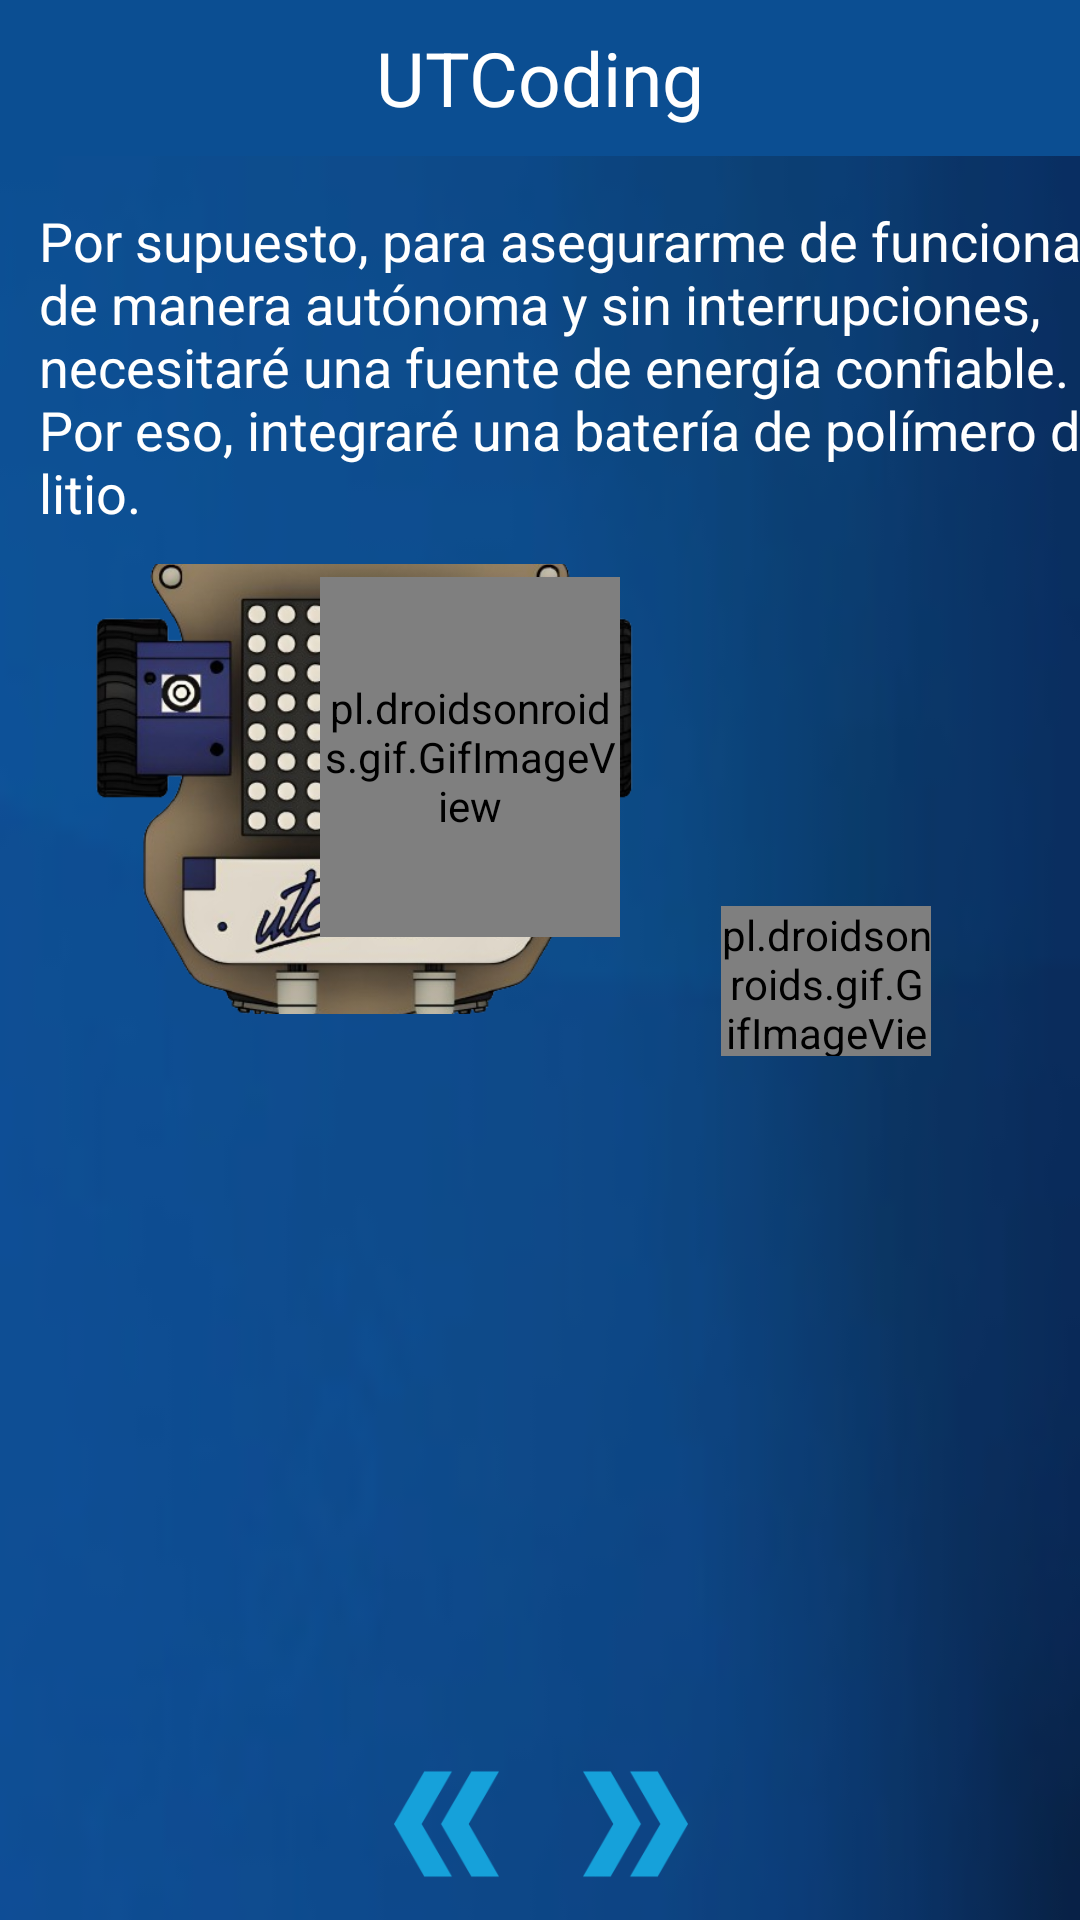

Where icons sit on this 1080x1920 app screen, as rect(x1, y1, x2, y2):
regresar: rect(394, 1771, 499, 1877)
siguiente: rect(583, 1771, 688, 1877)
